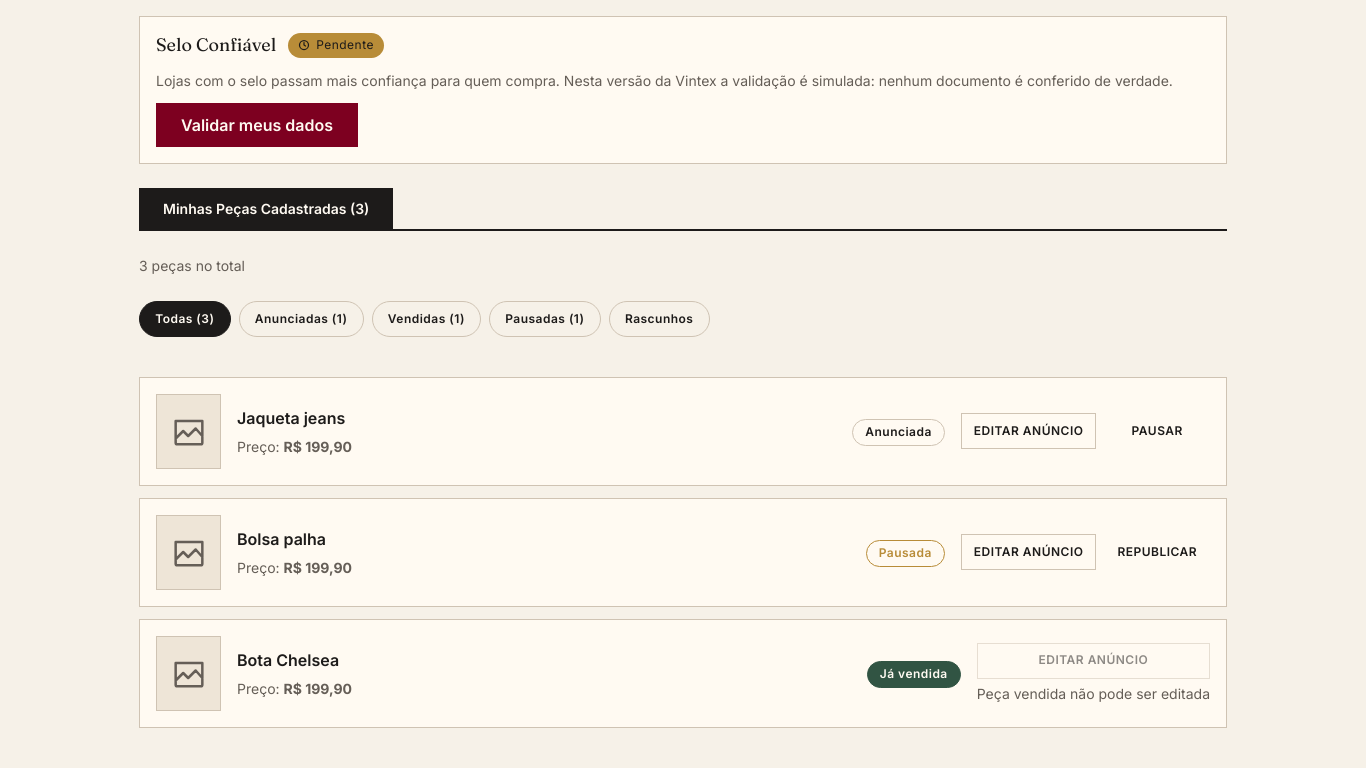
Test case: <SellerAdmin /> › ações por peça (FE-US019-2) › Pausar tira a peça da vitrine, ela continua na lista, e avisa com Desfazer
(page scrolled)
expect the button "Jaqueta jeans" is shown: met, box [237, 405, 345, 432]
Click the button "Pausar".
click(1157, 431)  # box [1104, 413, 1210, 449]
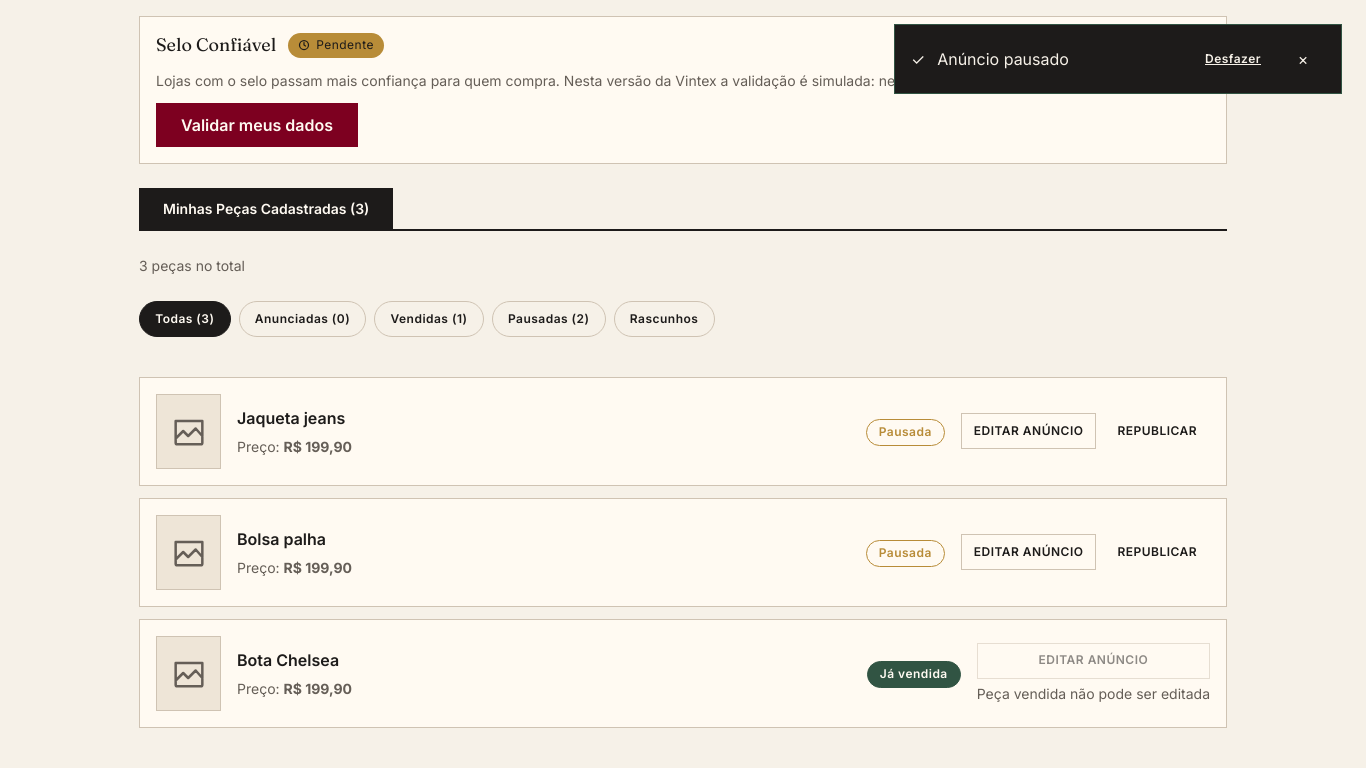
expect the text "Anúncio pausado" is shown: met, box [937, 49, 1069, 69]
expect the 1st text "Pausada" is shown: met, box [866, 419, 945, 446]
expect the 1st button "Republicar" is shown: met, box [1104, 413, 1210, 449]
Click the button "Desfazer".
click(1233, 59)  # box [1197, 37, 1269, 81]
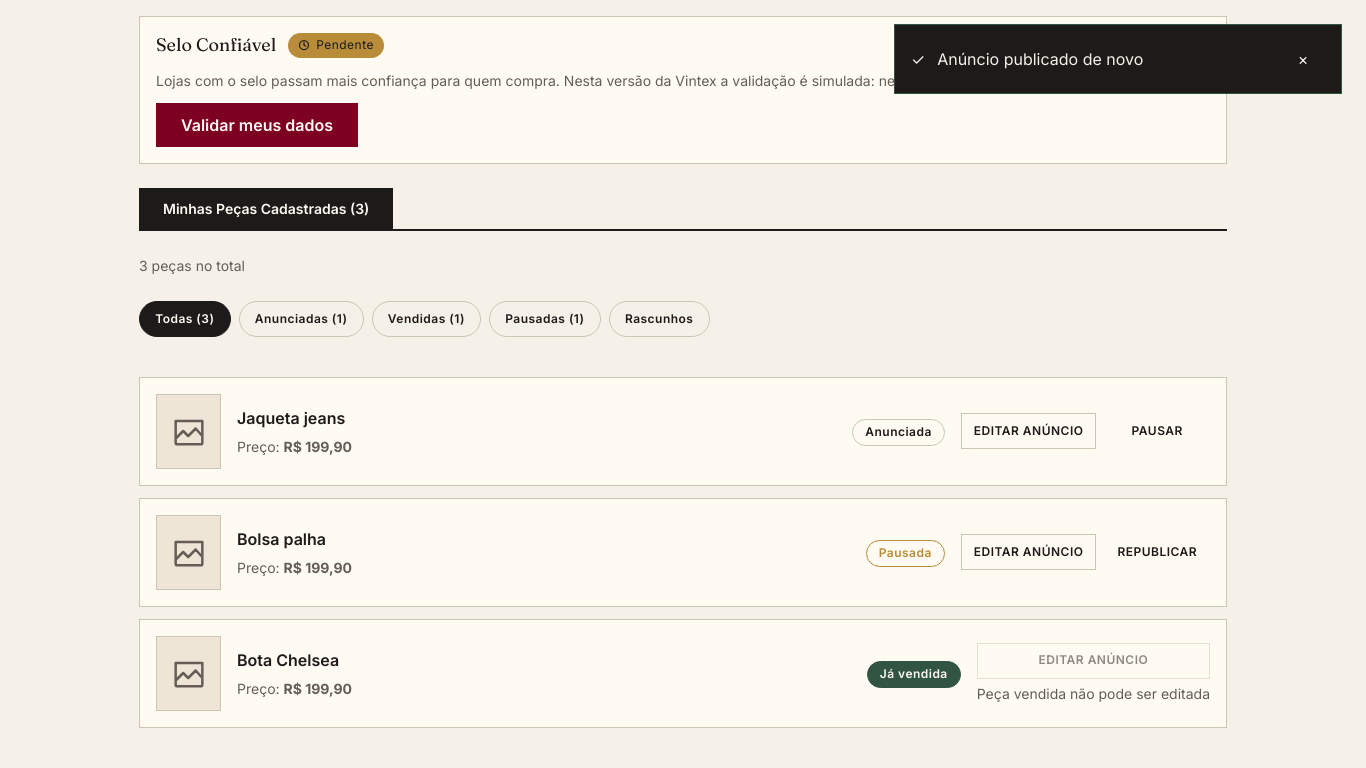
expect the button "Pausar" is shown: met, box [1104, 413, 1210, 449]
